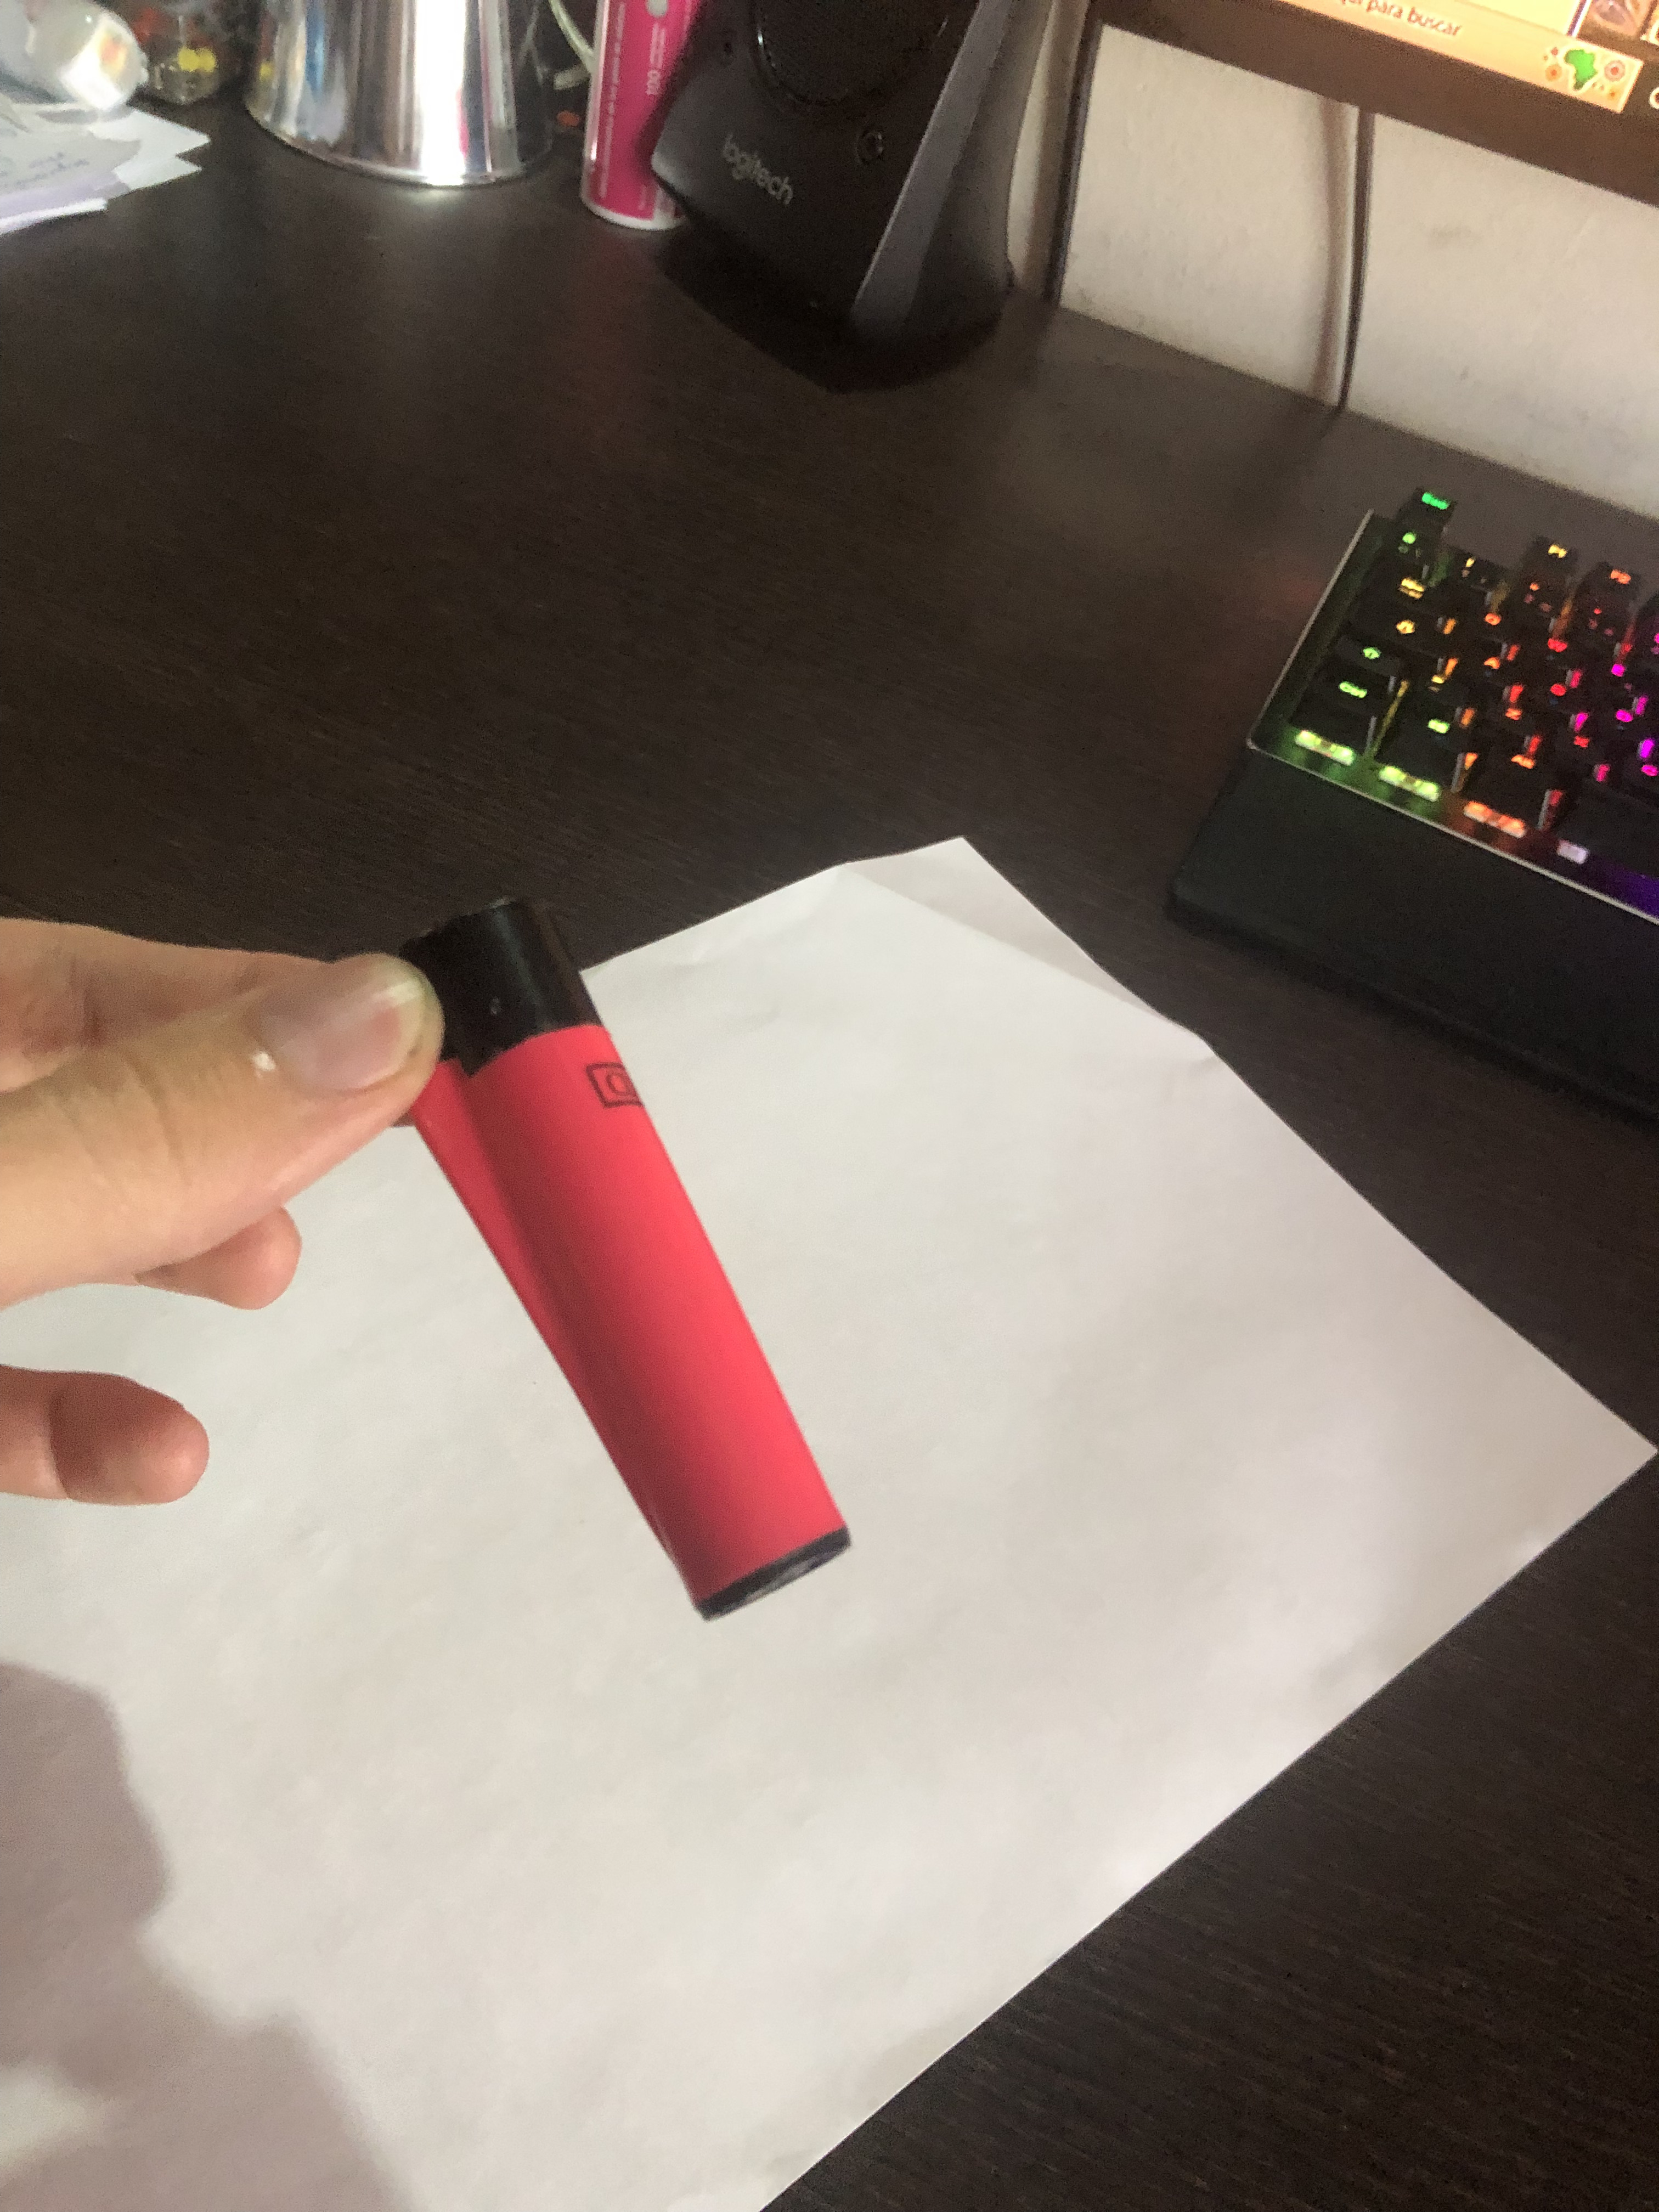Mechero: (385, 888, 857, 1615)
